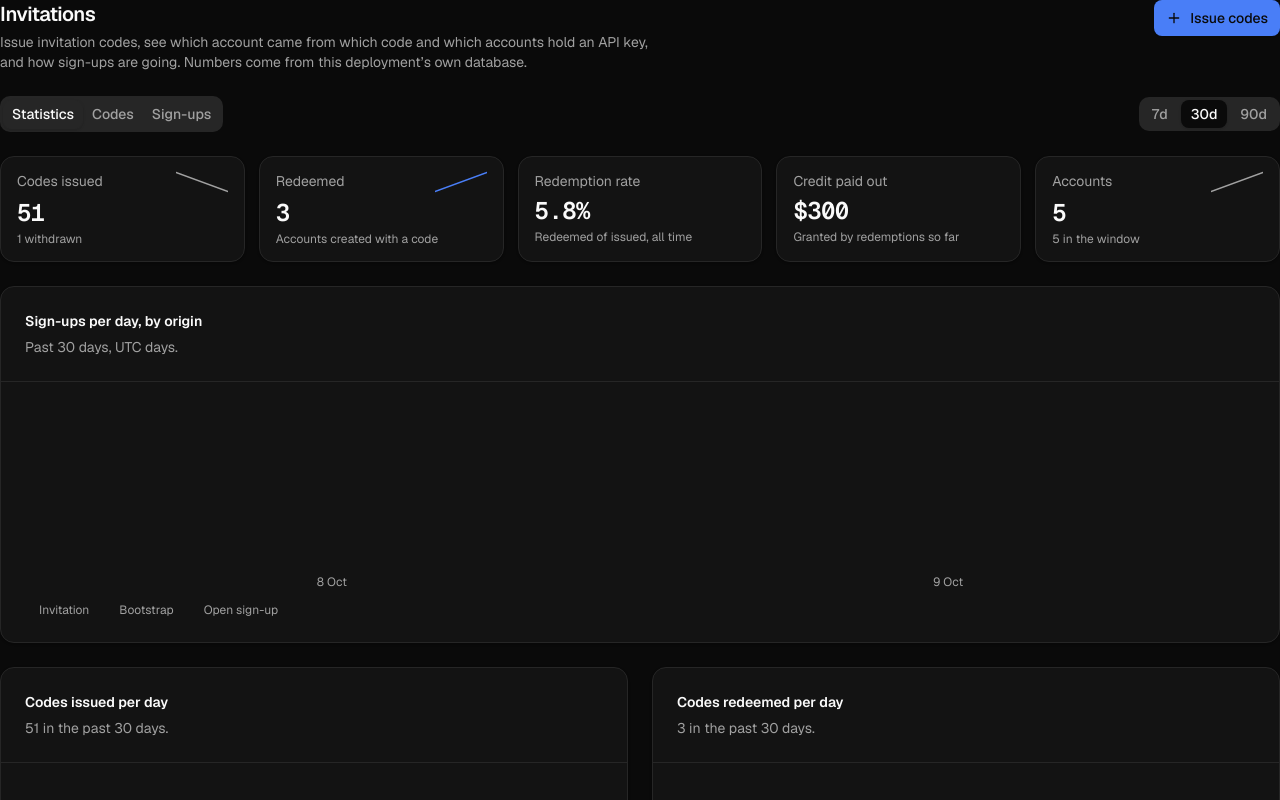
Test case: the Invitations section, on who holds an API key › says the filters matched nothing, and never that every account holds a key
Click the tab "Sign-ups": (182,114) [143,100,220,128]
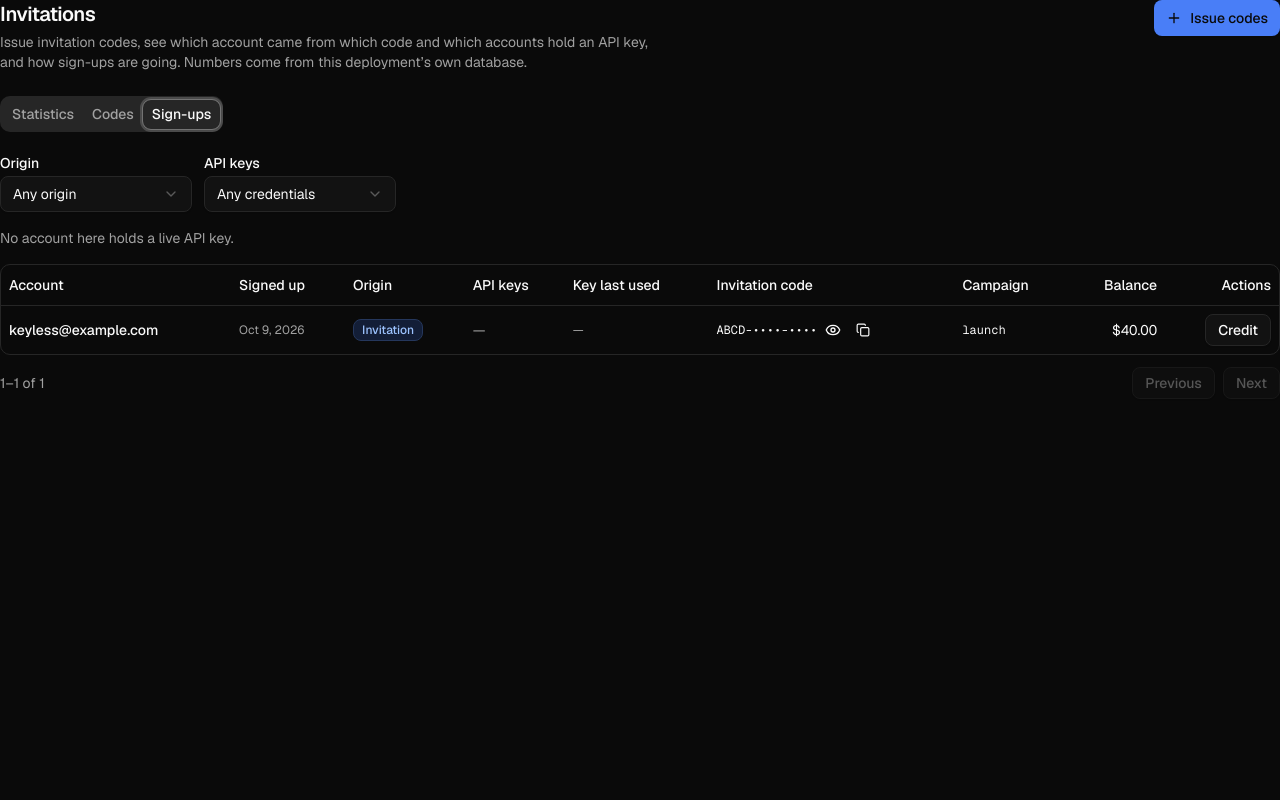
Check: the row "keyless@example.com" is shown, box [1,305,1279,354]
Click the dropdown named "API keys": (300,194) [204,176,396,212]
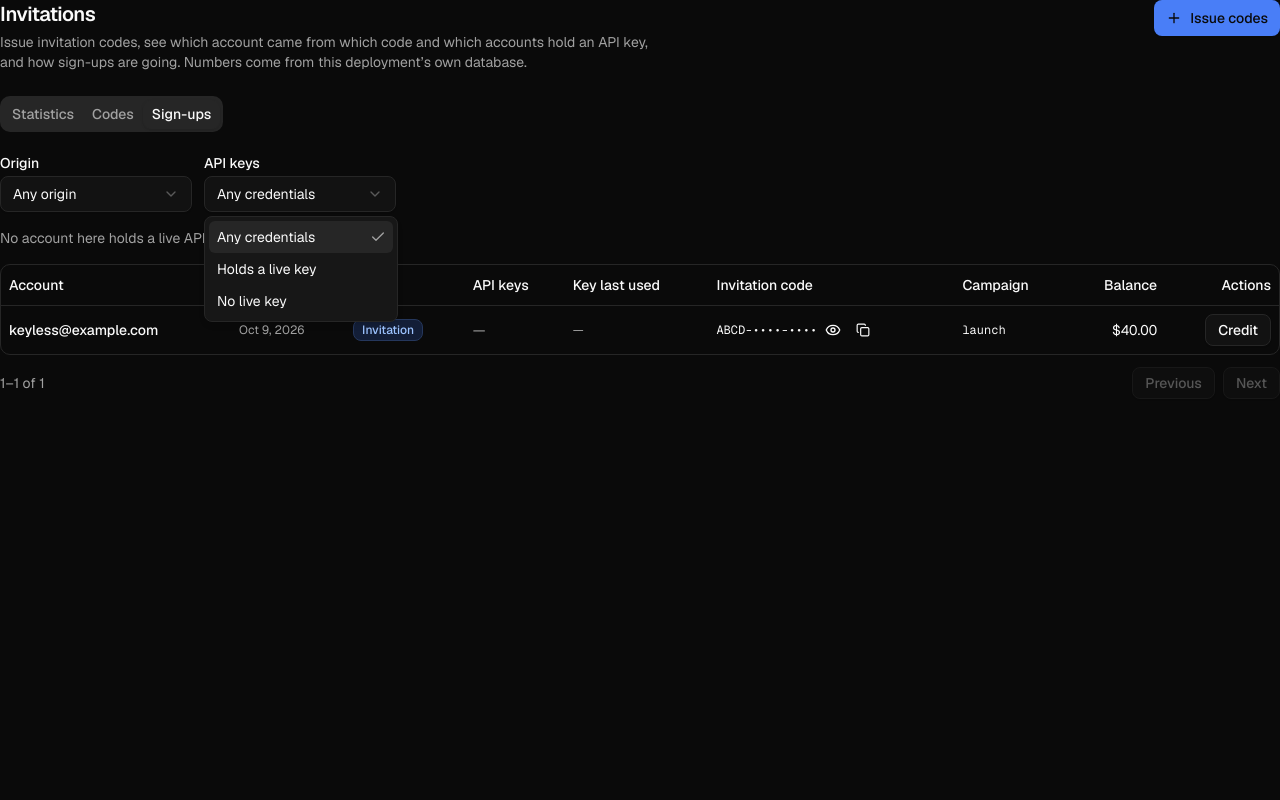
Click the option "Holds a live key": (267,269) [217,260,317,278]
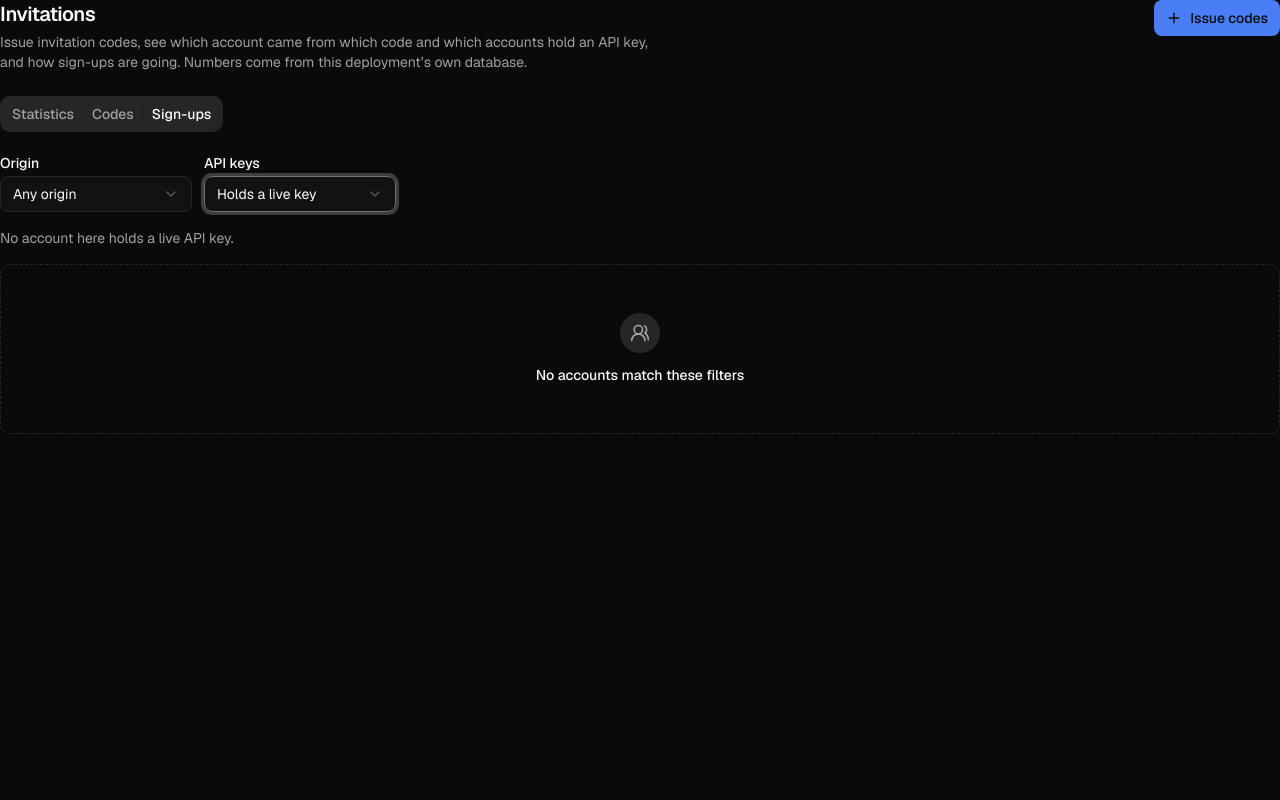
Check: the text "No accounts match these filters" is shown, box [536,365,744,385]
